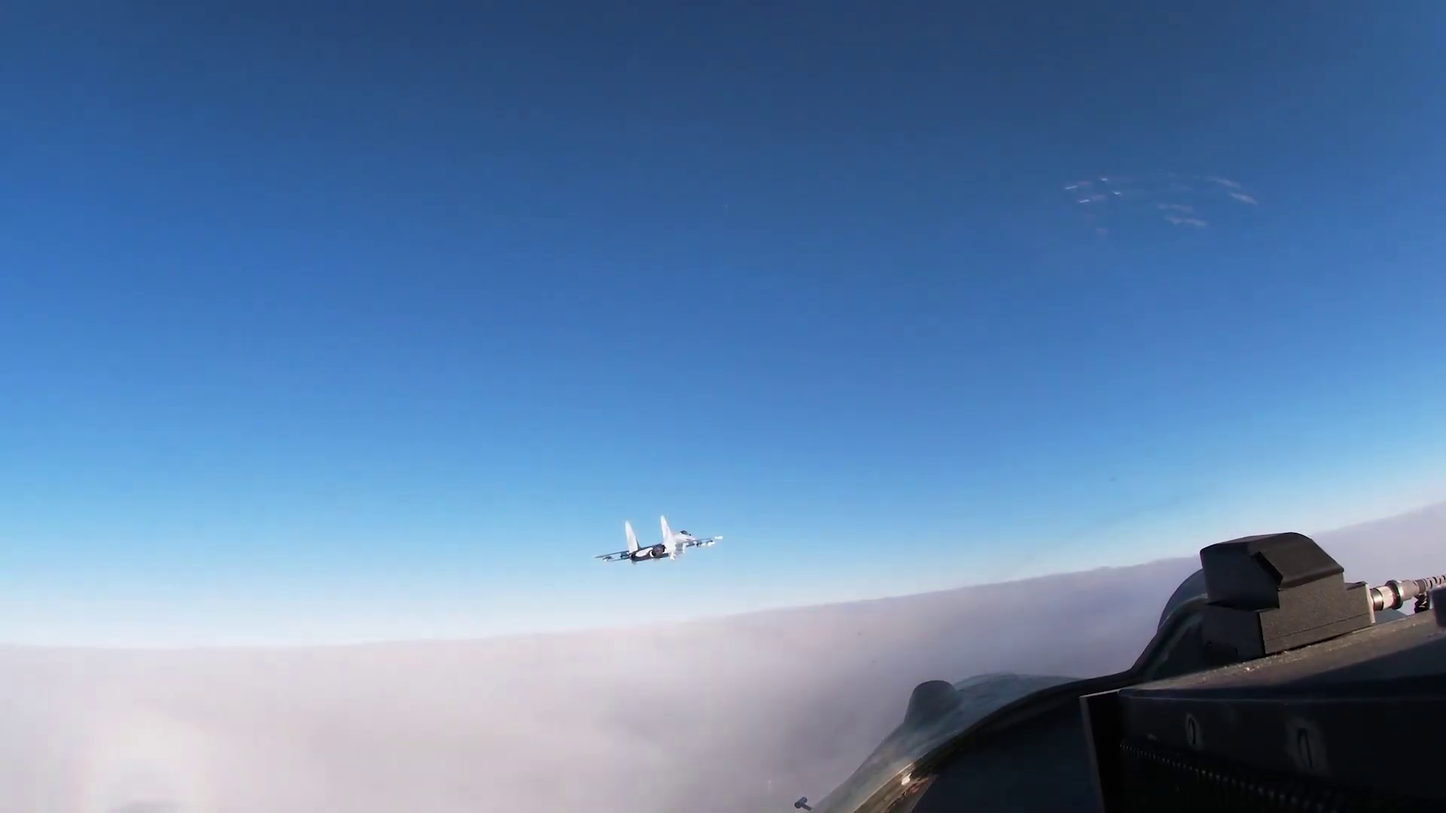Su35: (592, 514, 723, 565)
